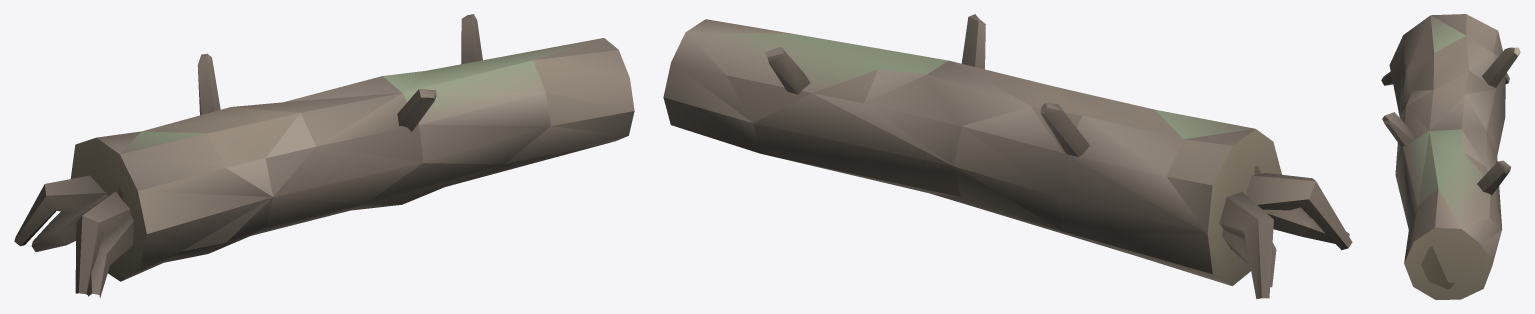
Rendered from fallen.lod1.glb.
The picture shows the model from 3 angles, left to right: view 1: azimuth 30°, elevation 25°; view 2: azimuth 150°, elevation 25°; view 3: azimuth 270°, elevation 25°; orthographic projection. The views are drawn at different scales.
Bounding box in the file's own units: 5.05 × 1.32 × 1.33.
